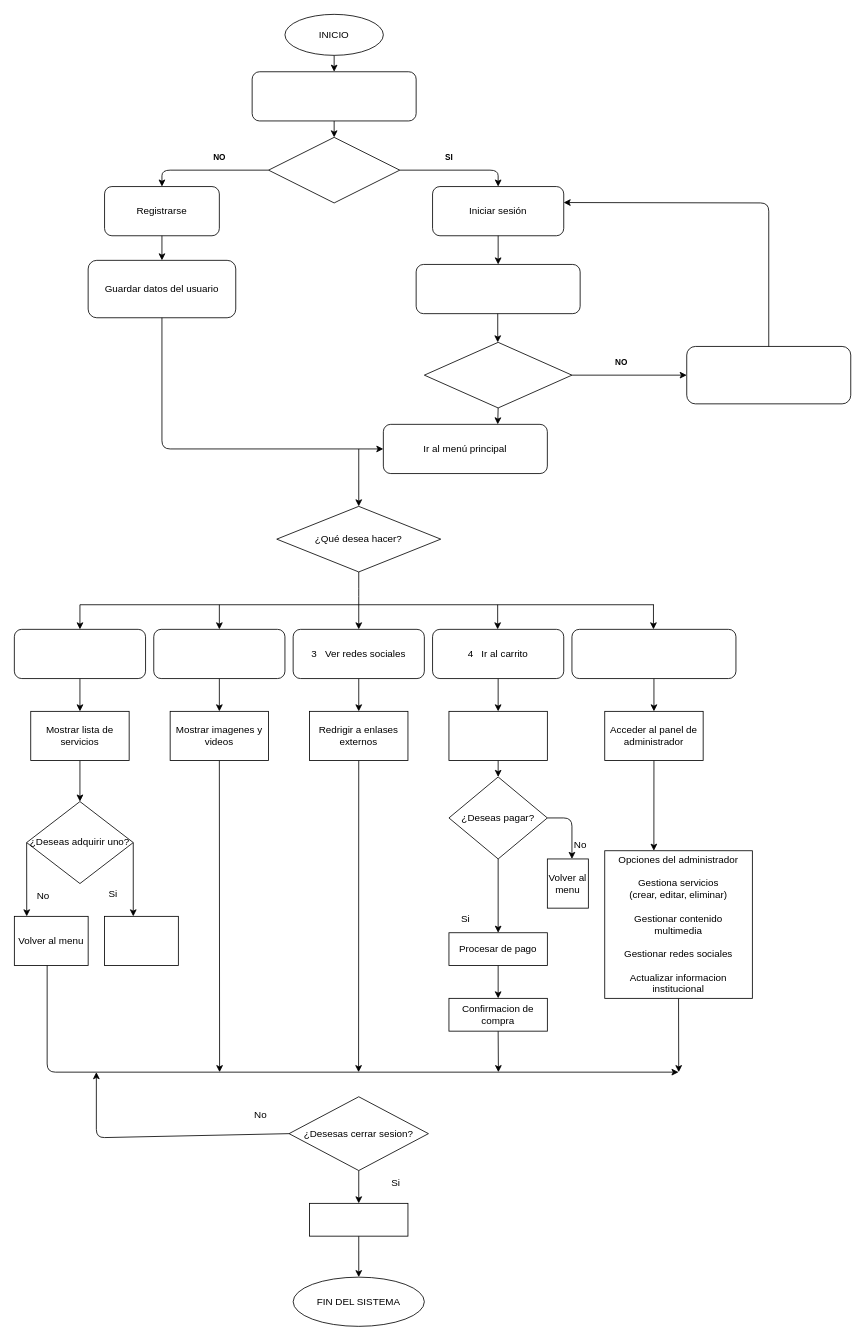
This 865x1341 diagram has some shape labels left out. The centre of each missing label's shape, as x and y in pixels:
1 Ver servicios: (x=80, y=654)
2 Ver multimedia: (x=219, y=654)
5 Administración (Administrador): (x=653, y=654)
Añadir al carrito: (x=141, y=941)
Cerrar sesion: (x=358, y=1219)
Mostrar error e intentar nuevamente: (x=768, y=375)
Usuario accede al sitio web: (x=333, y=96)
Validar credenciales: (x=497, y=289)
Ver productos añadidos: (x=497, y=736)
¿Credenciales válidas?: (x=498, y=375)
¿Está registrado?: (x=334, y=170)
